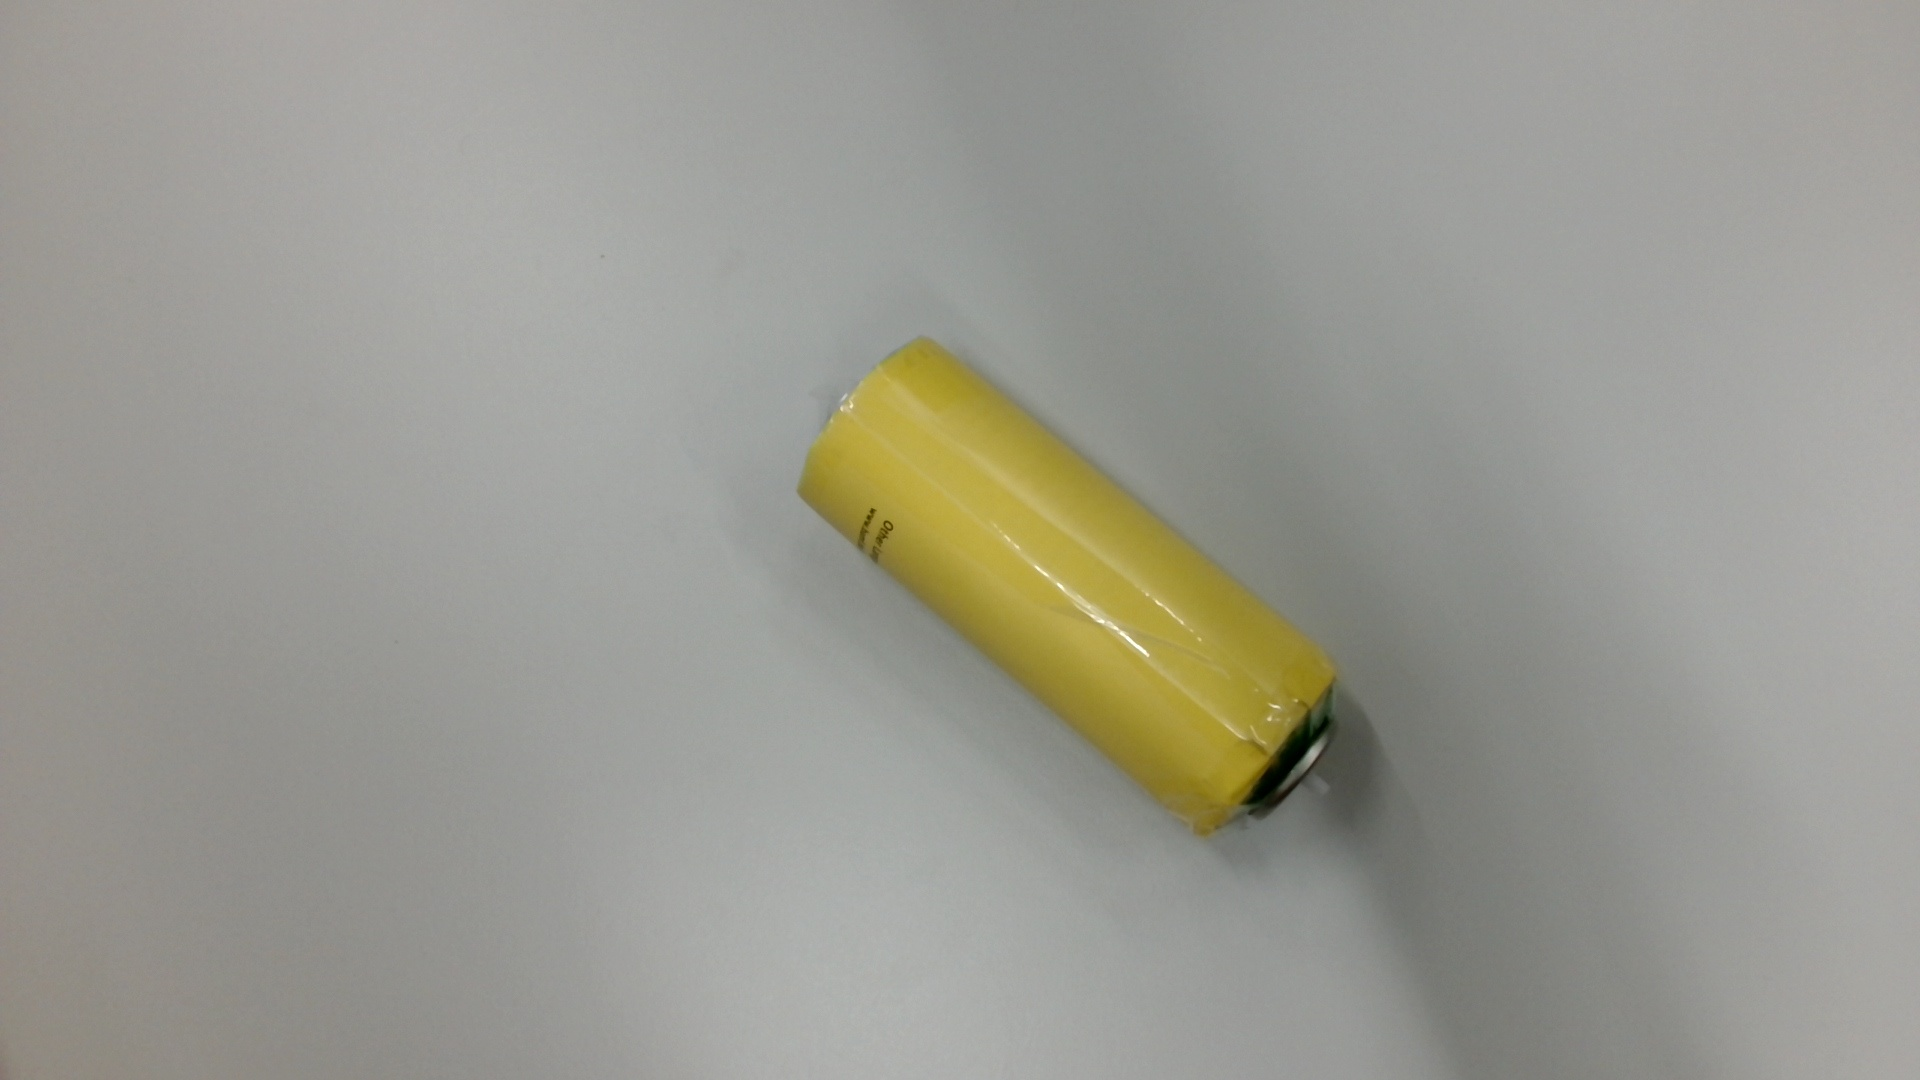Cylinder: (790, 332, 1370, 856)
